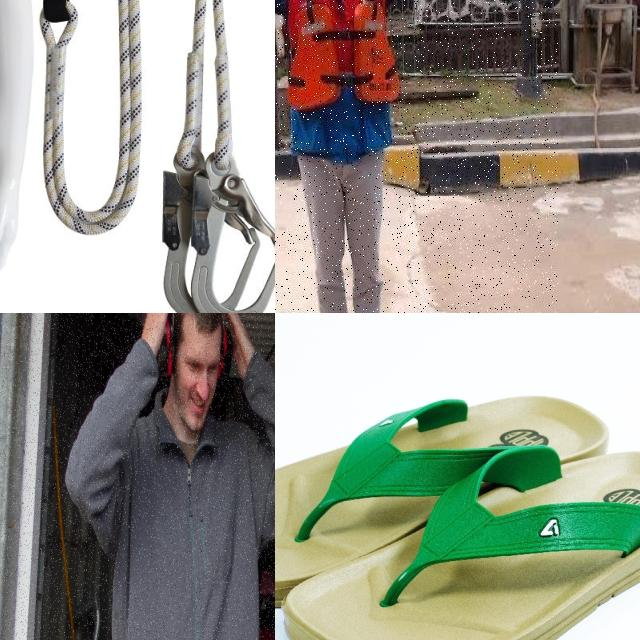No_Glasses: (182, 350, 220, 377)
Sandals: (275, 343, 640, 640)
face_nomask: (179, 375, 217, 432)
hand_noglove: (224, 313, 255, 379), (142, 313, 167, 355)
person: (275, 0, 558, 313)
vest: (287, 0, 400, 156)
